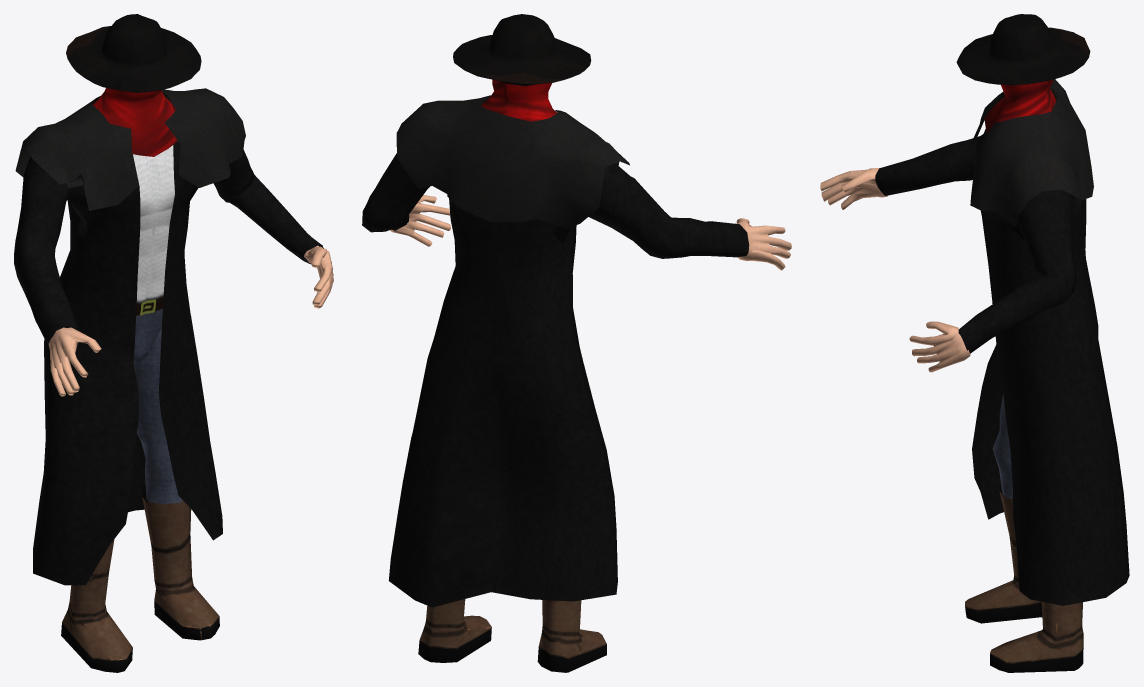
The model's file is U_shoot_2.obj.
The picture shows the model from 3 angles, left to right: view 1: azimuth 30°, elevation 25°; view 2: azimuth 150°, elevation 25°; view 3: azimuth 270°, elevation 25°; orthographic projection. The views are drawn at different scales.
Parts seen in each view (by area): view 1: Undertaker_4:Undertaker_4:Undertaker; view 2: Undertaker_4:Undertaker_4:Undertaker; view 3: Undertaker_4:Undertaker_4:Undertaker.
Boxes of the visible parts, x1=… form: Undertaker_4:Undertaker_4:Undertaker: x1=14, y1=14, x2=333, y2=672; Undertaker_4:Undertaker_4:Undertaker: x1=362, y1=14, x2=791, y2=672; Undertaker_4:Undertaker_4:Undertaker: x1=820, y1=14, x2=1129, y2=672.
Size of the model in its own units: 1.62 by 2.9 by 1.31.
Materials: 1 (1 with a texture image).
